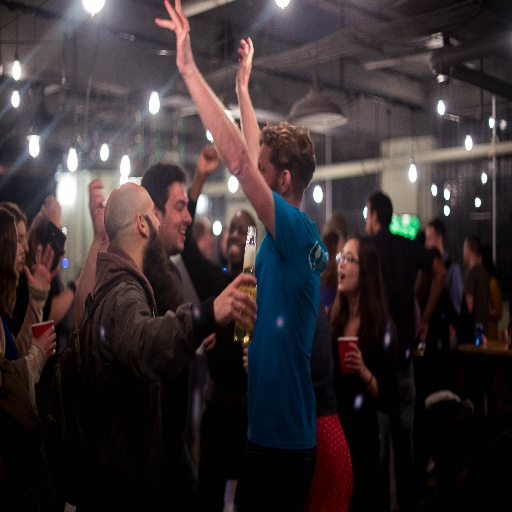hand: (213, 272, 258, 336), (155, 0, 192, 70), (24, 242, 61, 297), (87, 179, 107, 238), (30, 327, 57, 367), (234, 35, 255, 85), (195, 143, 220, 178), (343, 342, 364, 375), (42, 193, 63, 225), (414, 322, 428, 341)
